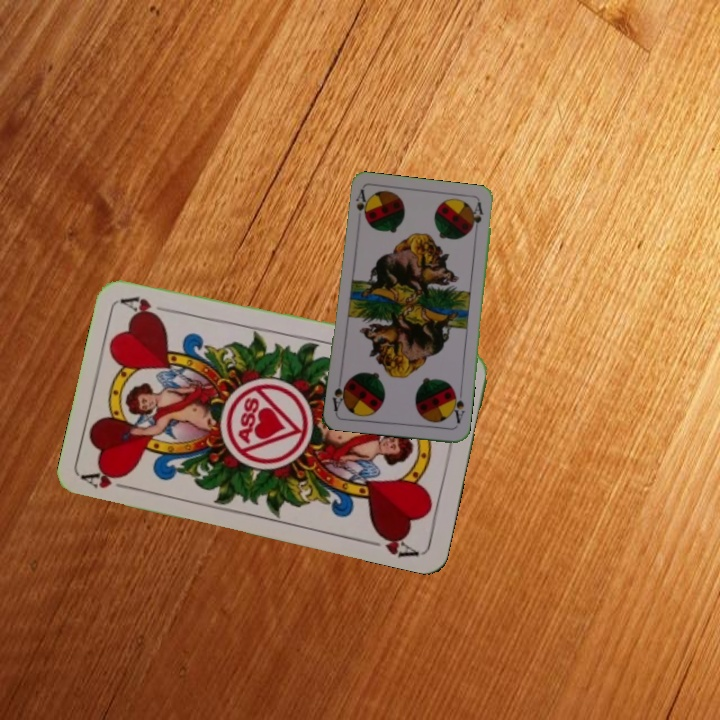HA: (80, 464, 139, 493)
SA: (447, 387, 467, 426), (352, 186, 371, 223)
